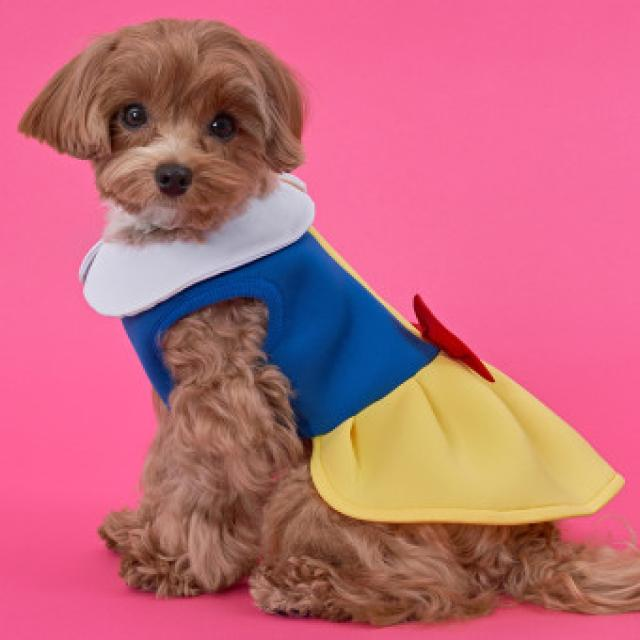cloth: (80, 175, 622, 524)
